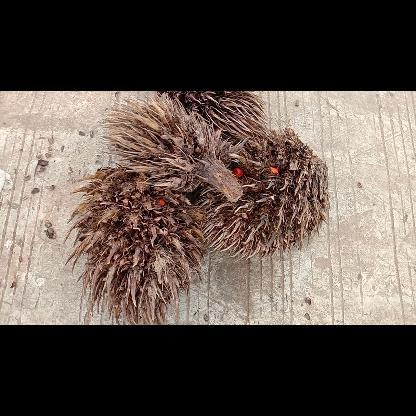Janjang kosong: (63, 162, 206, 324), (198, 128, 328, 260), (100, 91, 250, 203), (157, 91, 269, 141)
